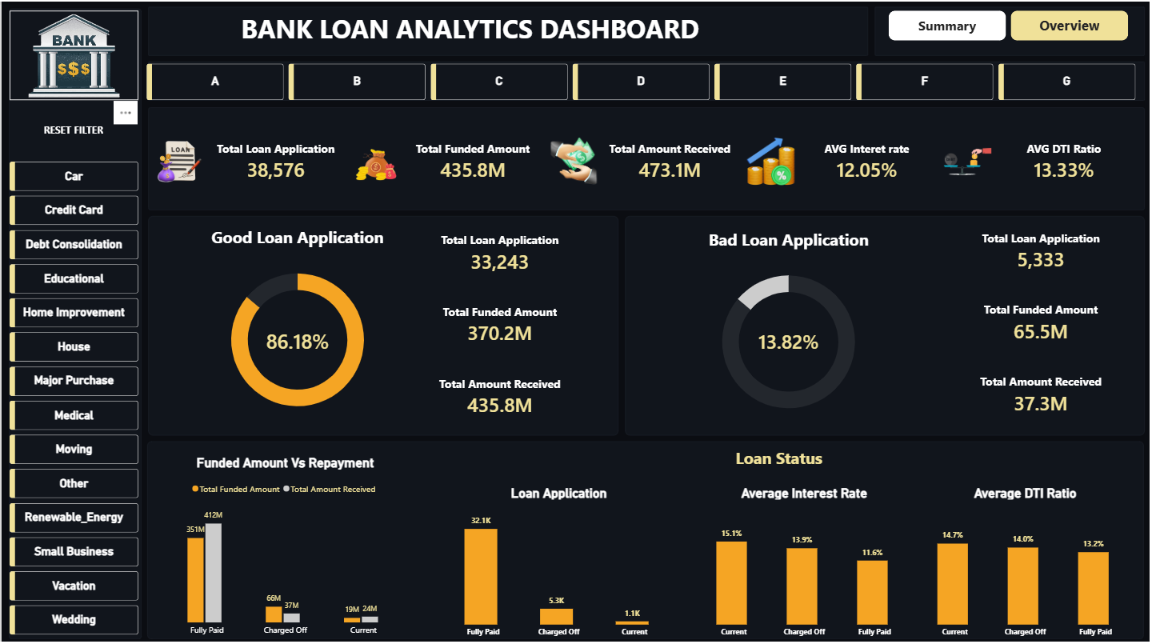

Layout of this report page (visuals, bound fields, positions):
{"tool":"powerbi","page":{"name":"Summary","canvas":[1920,1080],"ordinal":0},"visuals":[{"type":"cardVisual","fields":{"Data":["financial_loan.Total Loan Application","financial_loan.Total Funded Amount","financial_loan.Total Amount Received","financial_loan.AVG Interet rate","financial_loan.Avg DTI Rate"]},"box":[257,188.2,1639.6,157.4],"z":0},{"type":"donutChart","title":"Good Loan Application","fields":{"Category":["financial_loan.Good_vs_Bad Loan"],"Y":["financial_loan.Total Loan Application"]},"box":[257,360.1,474.1,358.3],"z":1000},{"type":"donutChart","title":"Bad Loan Application","fields":{"Category":["financial_loan.Good_vs_Bad Loan"],"Y":["financial_loan.Total Loan Application"]},"box":[1076.7,363.7,474.1,358.3],"z":2000},{"type":"cardVisual","fields":{"Data":["financial_loan.Good Loan %"]},"box":[396.3,524.8,197.3,83.2],"z":3000},{"type":"cardVisual","fields":{"Data":["financial_loan.Bad loan %"]},"box":[1225.1,512.1,177.3,108.6],"z":4000},{"type":"cardVisual","fields":{"Data":["financial_loan.Total Loan Application","financial_loan.Total Funded Amount","financial_loan.Total Amount Received"],"Rows":["financial_loan.Good_vs_Bad Loan"]},"box":[615.3,363.7,401.7,354.7],"z":5000},{"type":"cardVisual","fields":{"Data":["financial_loan.Total Loan Application","financial_loan.Total Funded Amount","financial_loan.Total Amount Received"],"Rows":["financial_loan.Good_vs_Bad Loan"]},"box":[1518.3,360.1,401.7,354.7],"z":6000},{"type":"clusteredColumnChart","title":"Funded Amount Vs Repayment","fields":{"Category":["financial_loan.LOAN_STATUS"],"Y":["financial_loan.Total Funded Amount","financial_loan.Total Amount Received"]},"box":[242.5,743.8,463.3,336.6],"z":7000},{"type":"clusteredColumnChart","title":"Loan Application","fields":{"Category":["financial_loan.LOAN_STATUS"],"Y":["financial_loan.Total Loan Application"]},"box":[705.8,792.6,448.8,287.7],"z":8000},{"type":"textbox","box":[1225.1,743.8,195.4,48.9],"z":9000},{"type":"clusteredColumnChart","title":"Average Interest Rate","fields":{"Category":["financial_loan.LOAN_STATUS"],"Y":["financial_loan.AVG Interet rate"]},"box":[1131,792.6,419.8,287.7],"z":10000},{"type":"clusteredColumnChart","title":"Average DTI Ratio","fields":{"Category":["financial_loan.LOAN_STATUS"],"Y":["financial_loan.AVG DTI Ratio"]},"box":[1500.2,792.6,419.8,287.7],"z":11000},{"type":"image","box":[12.7,14.5,215.3,150.2],"z":12000},{"type":"advancedSlicerVisual","fields":{"Values":["financial_loan.PURPOSE"]},"box":[12.7,267.8,215.3,799.9],"z":13000},{"type":"advancedSlicerVisual","fields":{"Values":["financial_loan.GRADE"]},"box":[242.5,103.2,1654,61.5],"z":14000},{"type":"actionButton","box":[19.9,188.2,200,50],"z":15000},{"type":"textbox","box":[242.5,14.5,1080.4,90.5],"z":16000},{"type":"pageNavigator","box":[1480.3,14.5,400,50],"z":17000}]}

Visuals, with their boxes in screenshot pixels (x1, y1, x2, y2), scaled from the page's 1920x1080 canvas onto the 1150x642 screenshot:
cardVisual - financial_loan.Total Loan Application x financial_loan.Total Funded Amount: bbox(154, 112, 1136, 205)
"Good Loan Application" donutChart: bbox(154, 214, 438, 427)
"Bad Loan Application" donutChart: bbox(645, 216, 929, 429)
cardVisual - financial_loan.Good Loan %: bbox(237, 312, 356, 361)
cardVisual - financial_loan.Bad loan %: bbox(734, 304, 840, 369)
cardVisual - financial_loan.Total Loan Application x financial_loan.Total Funded Amount: bbox(369, 216, 609, 427)
cardVisual - financial_loan.Total Loan Application x financial_loan.Total Funded Amount: bbox(909, 214, 1149, 425)
"Funded Amount Vs Repayment" clusteredColumnChart: bbox(145, 442, 423, 641)
"Loan Application" clusteredColumnChart: bbox(423, 471, 692, 641)
textbox: bbox(734, 442, 851, 471)
"Average Interest Rate" clusteredColumnChart: bbox(677, 471, 929, 641)
"Average DTI Ratio" clusteredColumnChart: bbox(899, 471, 1149, 641)
image: bbox(8, 9, 137, 98)
advancedSlicerVisual - financial_loan.PURPOSE: bbox(8, 159, 137, 635)
advancedSlicerVisual - financial_loan.GRADE: bbox(145, 61, 1136, 98)
actionButton: bbox(12, 112, 132, 142)
textbox: bbox(145, 9, 792, 62)
pageNavigator: bbox(887, 9, 1126, 38)
